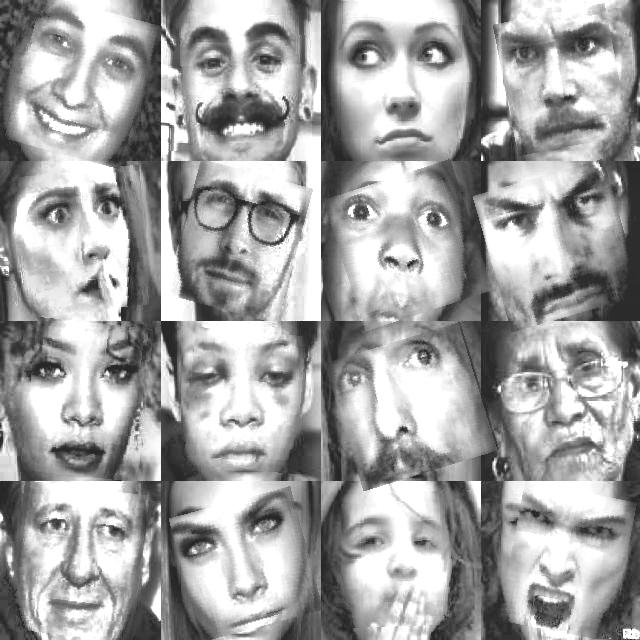angry: (482, 167, 634, 325), (505, 486, 631, 638), (22, 168, 150, 314), (499, 8, 625, 152)
fear: (187, 330, 307, 472)
happy: (0, 0, 154, 162), (167, 8, 311, 150), (341, 491, 474, 627)
neutral: (332, 167, 484, 323), (338, 1, 476, 161), (12, 484, 146, 640), (173, 166, 305, 318), (25, 320, 150, 480), (176, 493, 316, 635)
sad: (333, 331, 491, 483)
